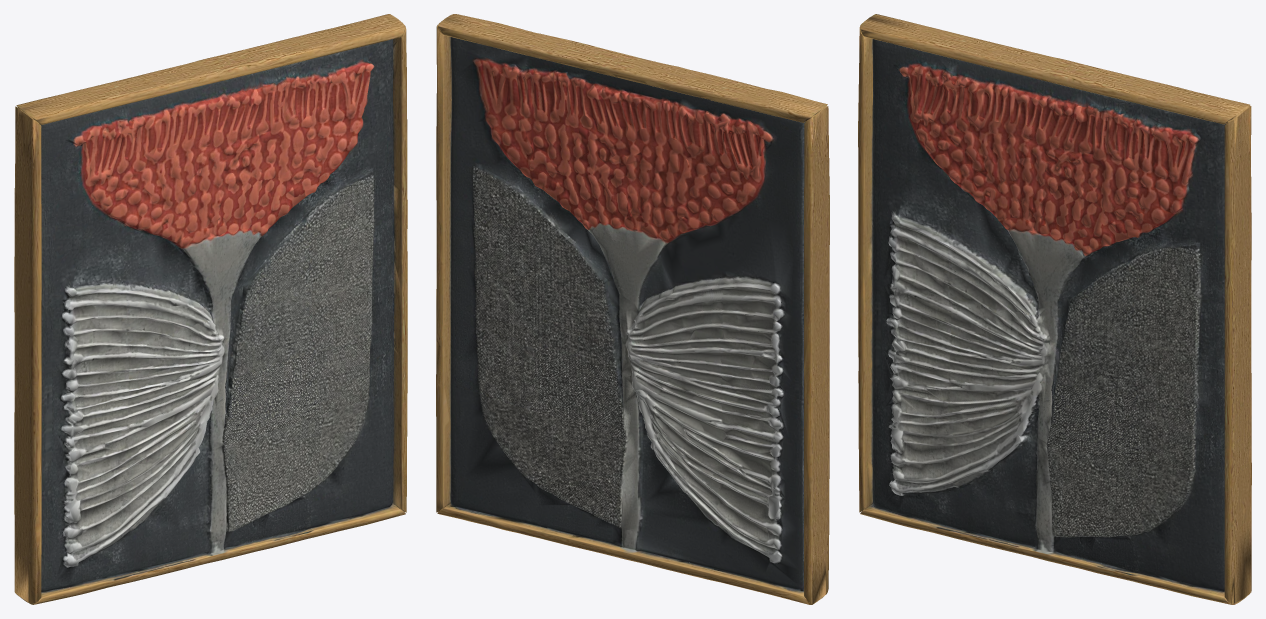
File: orange-flower-picture.glb
The picture shows the model from 3 angles, left to right: view 1: azimuth 30°, elevation 25°; view 2: azimuth 150°, elevation 25°; view 3: azimuth 330°, elevation 25°; orthographic projection.
Visible parts, largest first — view 1: tripo_node_f0a1309d-c618-4c99-b35b-d3fe4298af1b; view 2: tripo_node_f0a1309d-c618-4c99-b35b-d3fe4298af1b; view 3: tripo_node_f0a1309d-c618-4c99-b35b-d3fe4298af1b.
Part boxes in pixels (x1=…): tripo_node_f0a1309d-c618-4c99-b35b-d3fe4298af1b: x1=14, y1=14, x2=407, y2=604; tripo_node_f0a1309d-c618-4c99-b35b-d3fe4298af1b: x1=436, y1=14, x2=829, y2=604; tripo_node_f0a1309d-c618-4c99-b35b-d3fe4298af1b: x1=858, y1=14, x2=1251, y2=604.
Size of the model in its own units: 0.4191 by 0.5212 by 0.0408.
Materials: 1 (1 with a texture image).
